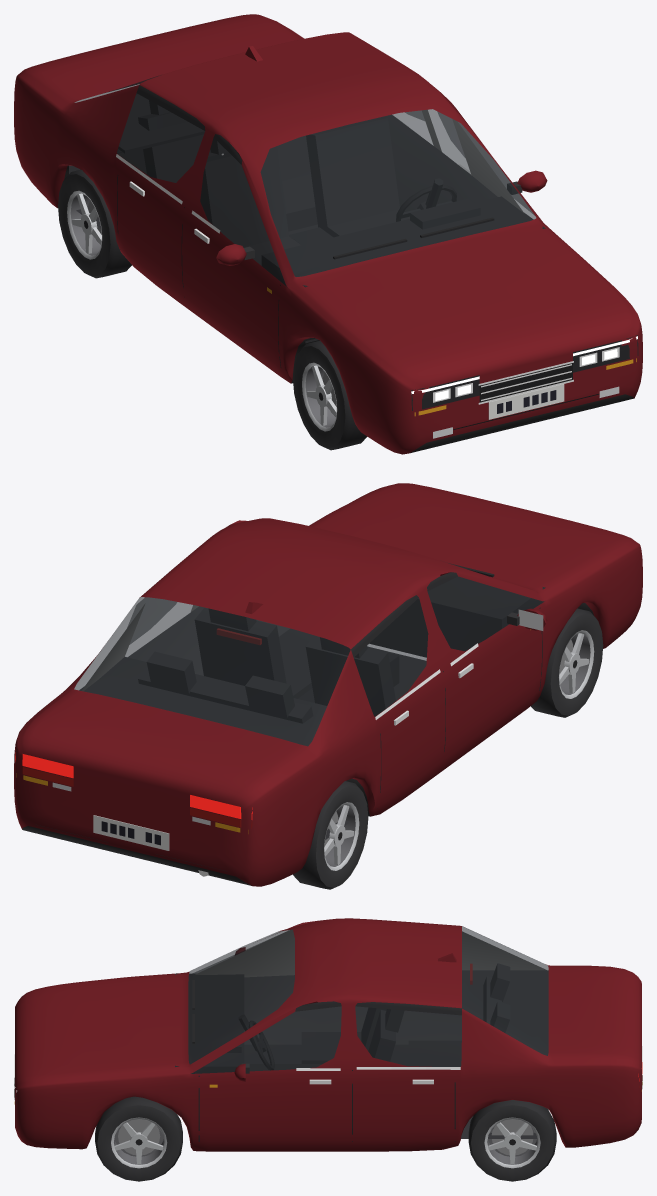
File: sedan_red.glb
3 views of the same model, one above another, from view 1: azimuth 30°, elevation 25°; view 2: azimuth 150°, elevation 25°; view 3: azimuth 270°, elevation 25° (orthographic). The views are drawn at different scales.
Visible parts, largest first — view 1: sedan_red_body, Wheel_FR, Wheel_RR; view 2: sedan_red_body, Wheel_RR, Wheel_FR; view 3: sedan_red_body, Wheel_FL, Wheel_RL.
Part boxes in pixels (<box>): sedan_red_body: <box>14,14,642,454</box>; Wheel_FR: <box>293,340,367,450</box>; Wheel_RR: <box>58,169,131,278</box>; sedan_red_body: <box>14,483,642,886</box>; Wheel_RR: <box>293,781,368,889</box>; Wheel_FR: <box>531,608,603,717</box>; sedan_red_body: <box>14,918,642,1151</box>; Wheel_FL: <box>95,1096,182,1181</box>; Wheel_RL: <box>468,1100,556,1181</box>.
Size of the model in its own units: 0.1135 by 0.0741 by 0.2358.
8 materials, 1 textured.
